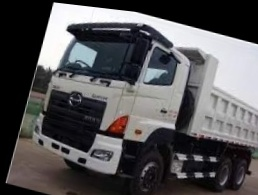truck: (17, 1, 258, 195)
